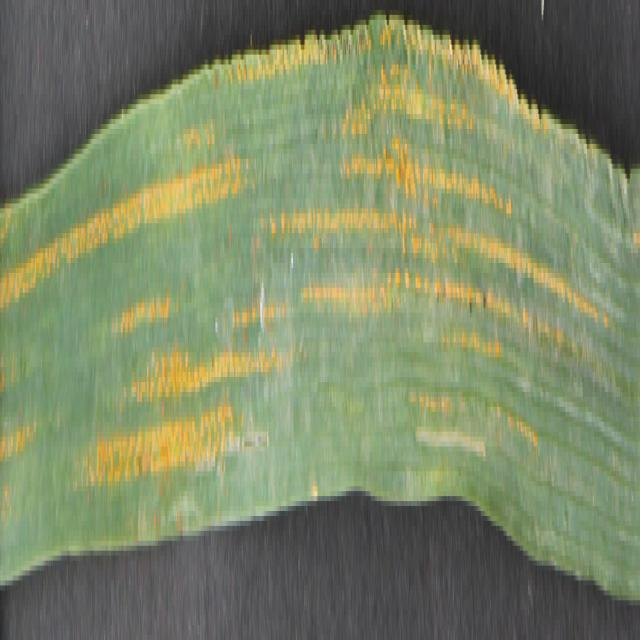leaf rust: (1, 5, 610, 511)
